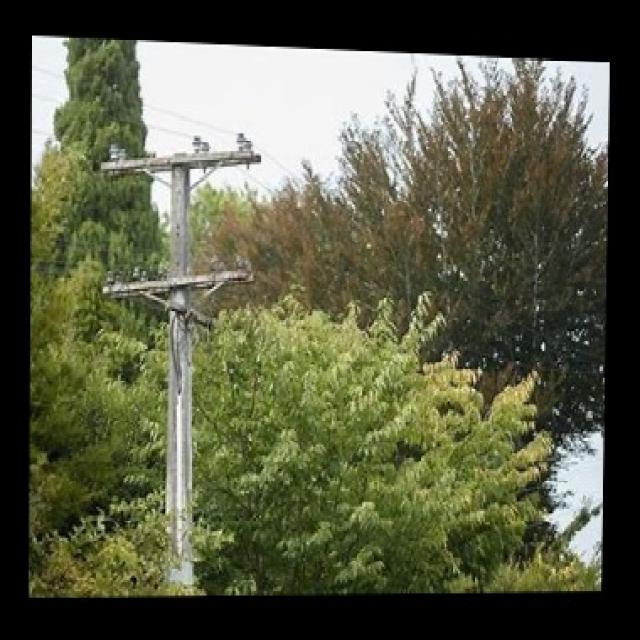utility poles: (97, 106, 258, 597)
